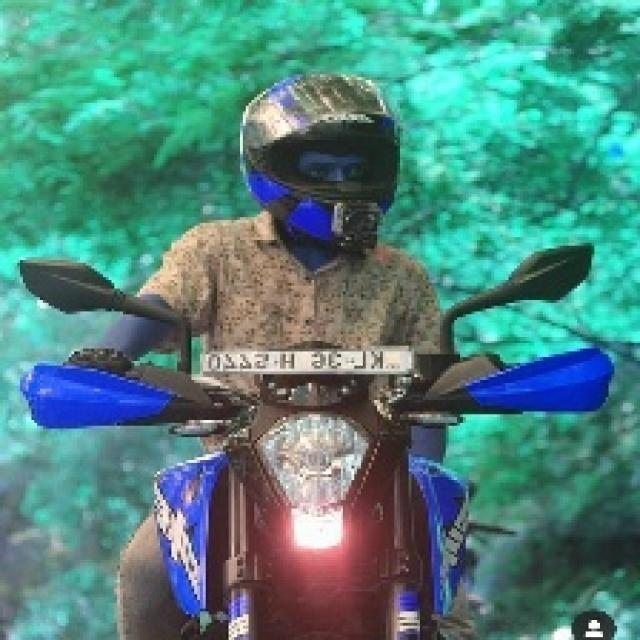Motorcycle: (37, 328, 604, 640)
